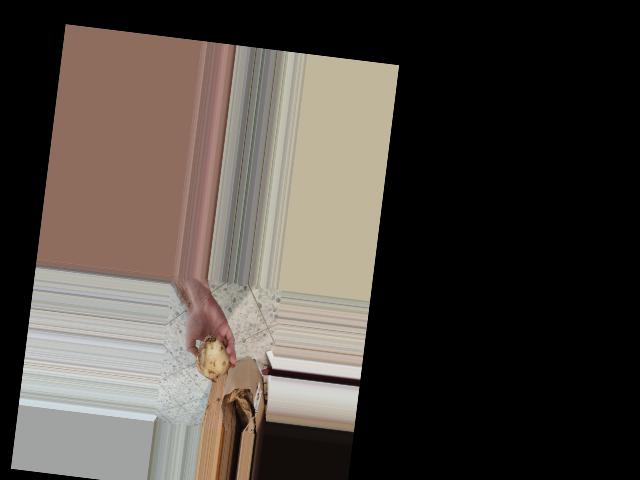onion: (190, 331, 234, 384)
